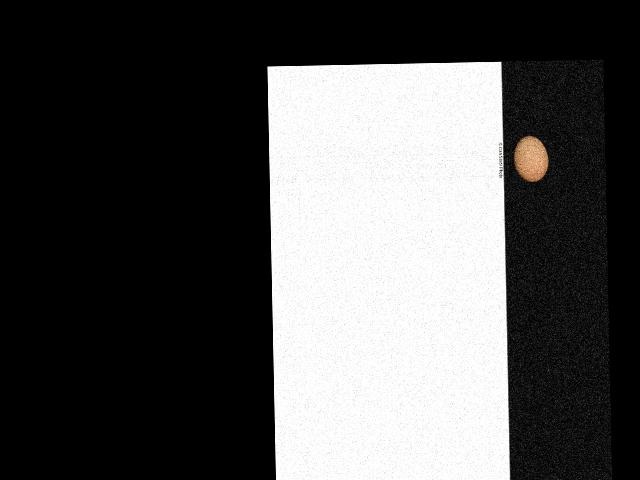egg: (512, 135, 548, 182)
